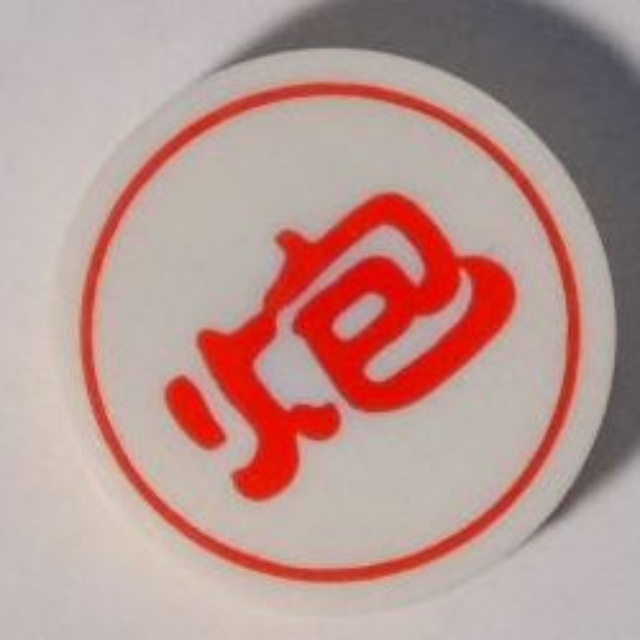red_phao: (41, 41, 627, 610)
